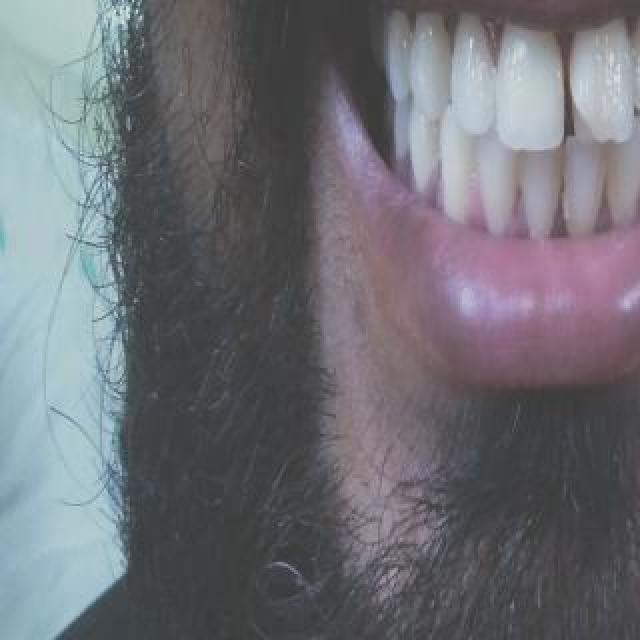calculus: (543, 161, 585, 261), (502, 156, 532, 244), (460, 137, 488, 221), (599, 146, 625, 222), (483, 44, 507, 120)
spacing: (554, 55, 586, 159)
